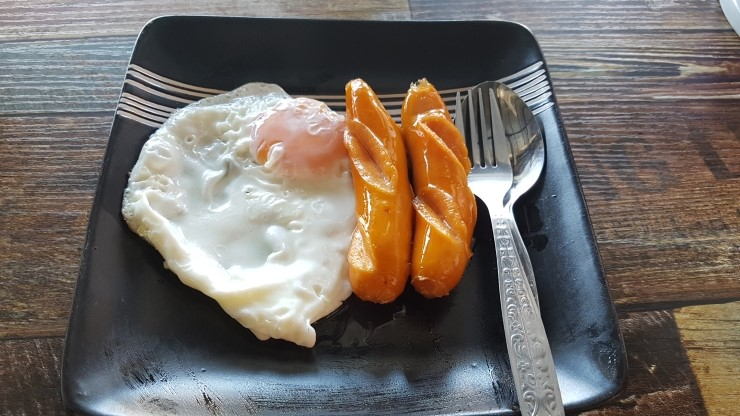fried egg: (153, 96, 343, 283)
